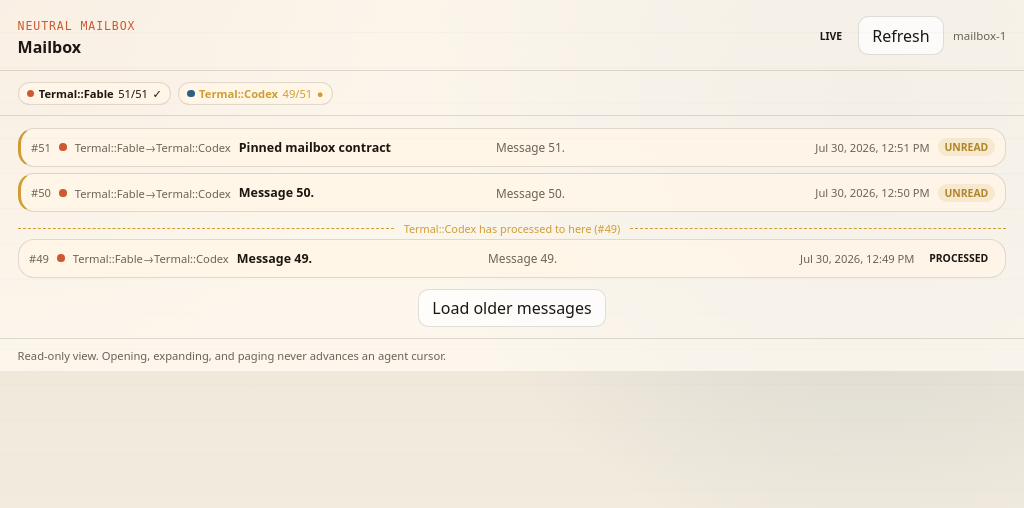
Test: MailboxPanel › renders newest-first pages with honest lagging-cursor state and never acknowledges
Expected: the text "Pinned mailbox contract" is shown, [239, 139, 391, 156]
Expected: the element with class "mailbox-thread-row" shows "#51", [18, 128, 1006, 167]
Click the 2nd button.
click(513, 147)  # box [21, 129, 1005, 166]
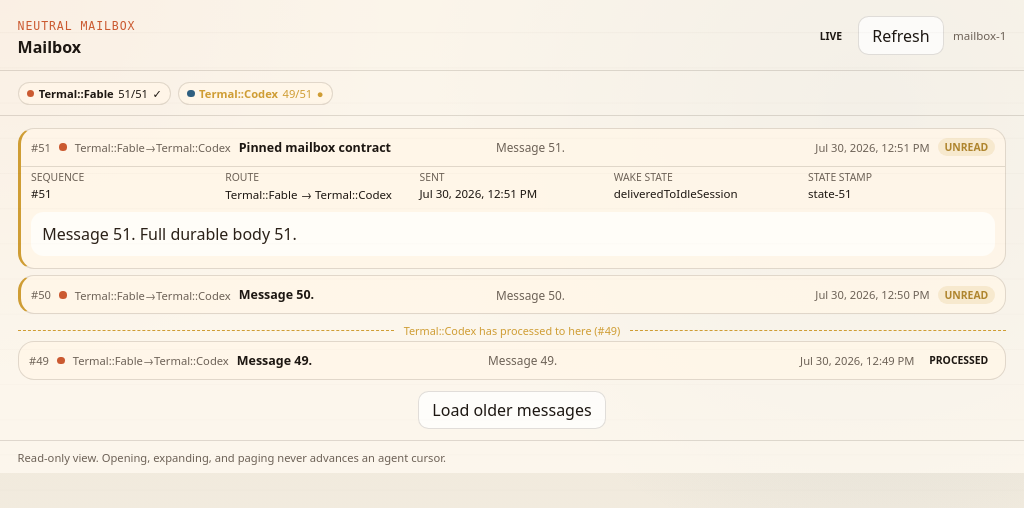
Now the text "state-51" is shown, box [808, 186, 852, 201]
Now the text "Message 51. Full durable body 51." is shown, box [31, 212, 995, 256]
Click the button "Load older messages".
click(512, 410)  # box [418, 391, 606, 430]
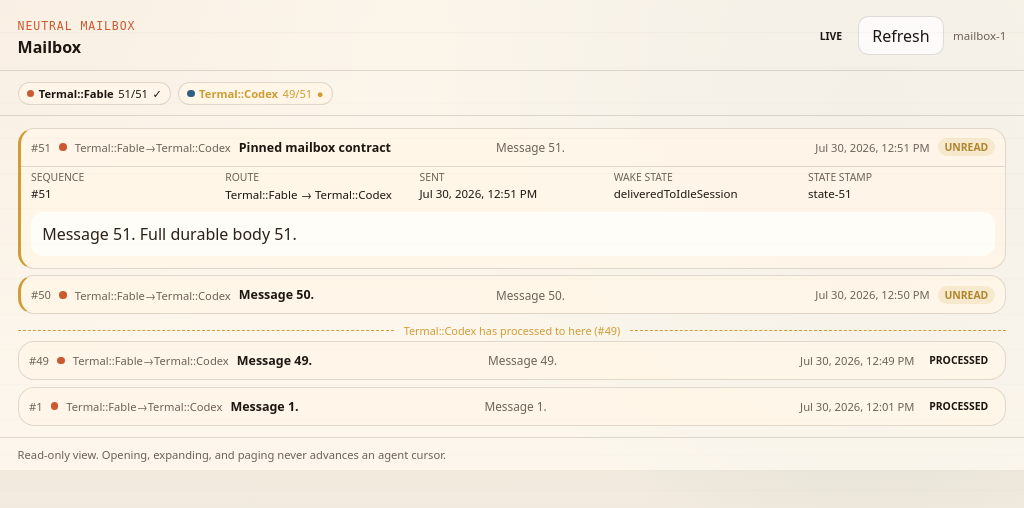
Now the text "#1" is shown, box [29, 399, 43, 414]
Now the button "Load older messages" is gone
